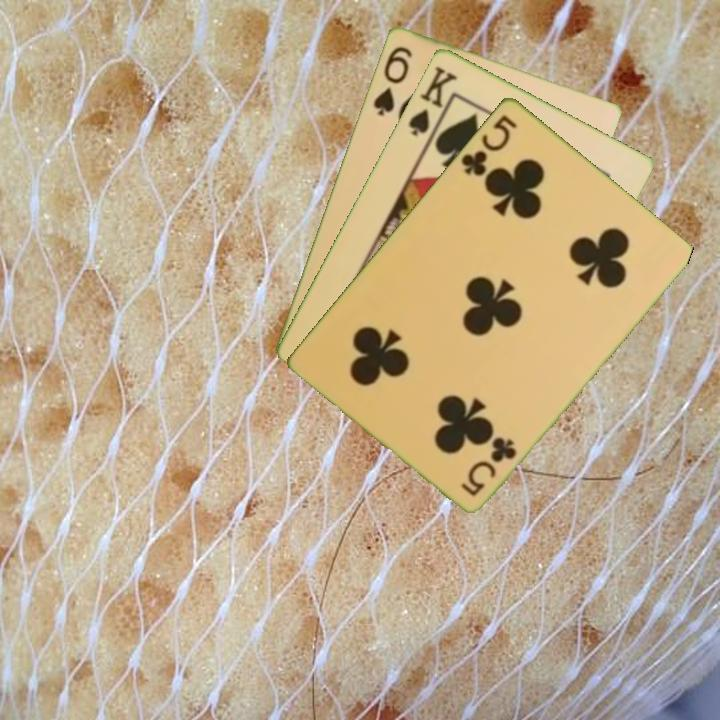5c: (457, 110, 520, 179), (457, 432, 520, 498)
6s: (369, 42, 415, 119)
Ks: (404, 62, 460, 144)
